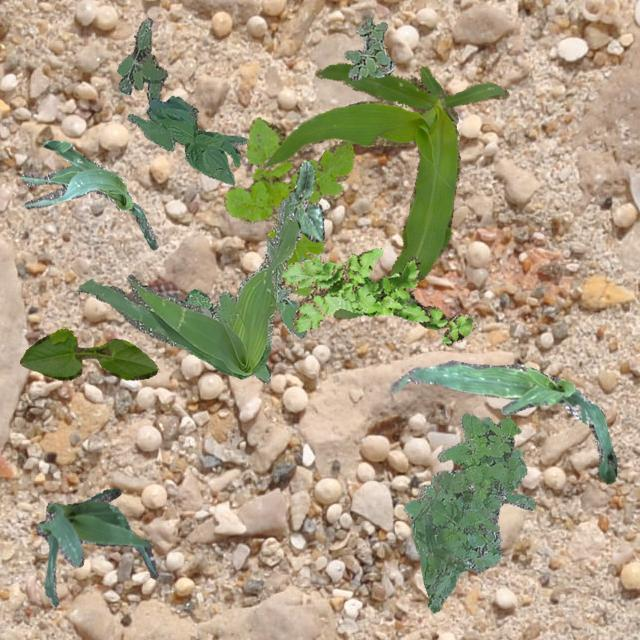crop: (260, 61, 508, 318), (390, 360, 616, 482), (20, 140, 156, 248), (34, 488, 158, 606), (126, 94, 247, 184), (19, 328, 158, 378), (286, 160, 324, 240)
weed: (76, 196, 302, 378), (402, 412, 534, 612), (222, 116, 354, 296), (280, 248, 474, 344), (164, 255, 306, 382), (116, 16, 166, 100), (344, 16, 394, 80)
